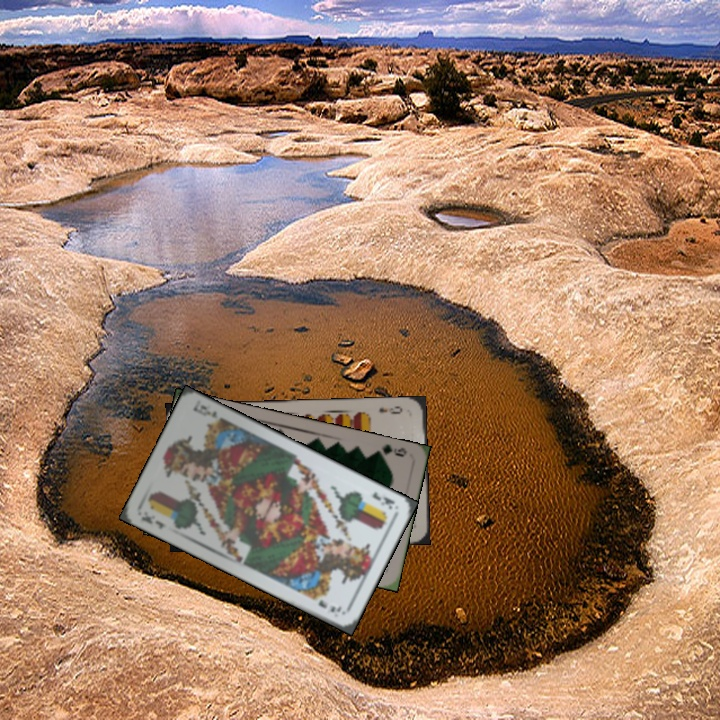E9: (375, 402, 405, 417)
EK: (367, 487, 397, 512), (137, 511, 169, 532)
G9: (370, 440, 409, 460)
